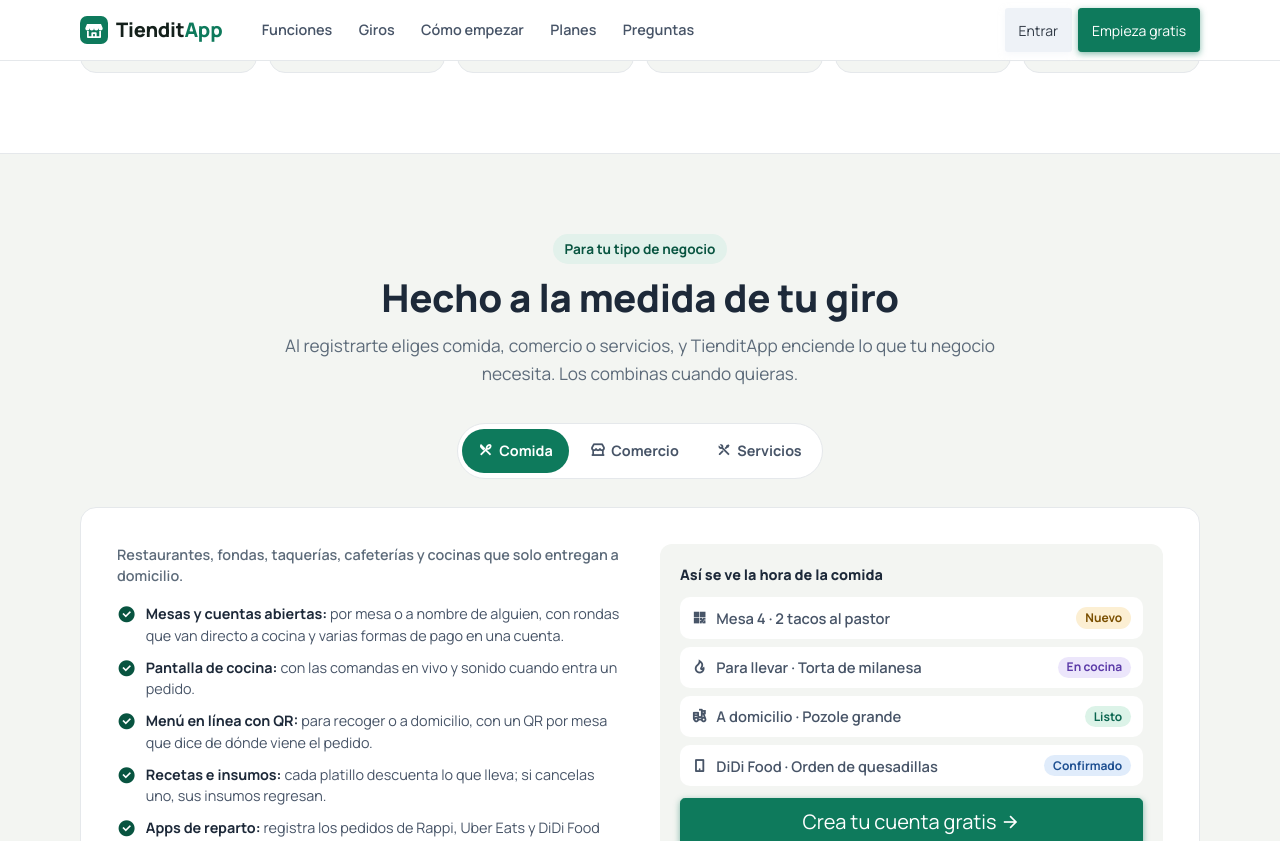
BusinessLandingPage › shows what each type of business gets, from a click or the arrows
(page scrolled)
Expected: the panel shows "Pantalla de cocina", [146,658,273,677]
Click the tab "Servicios". click: x=759, y=451
box: [700,429,818,473]
(page scrolled)
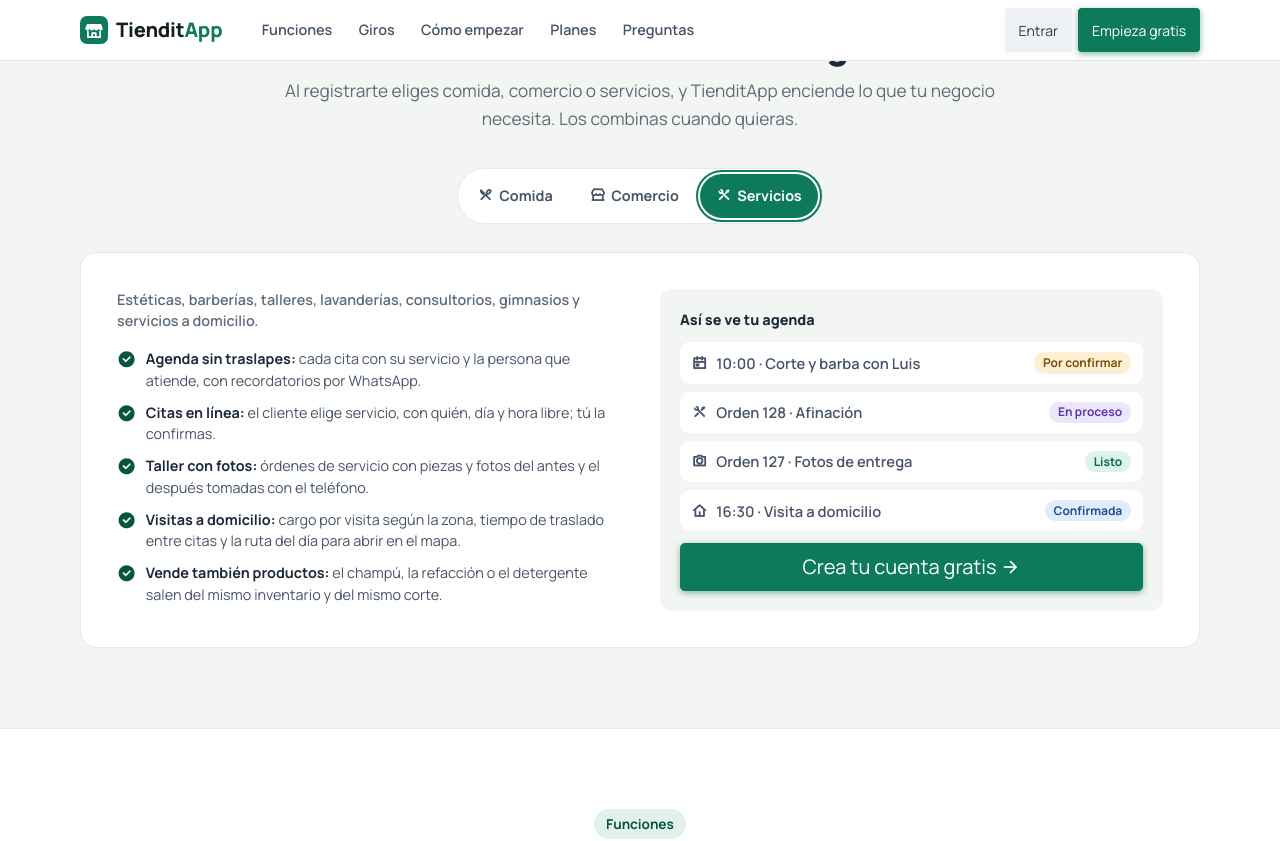
Result: the panel "servicios" shows "Citas en línea" at [146,403,240,422]
Press Arrowright
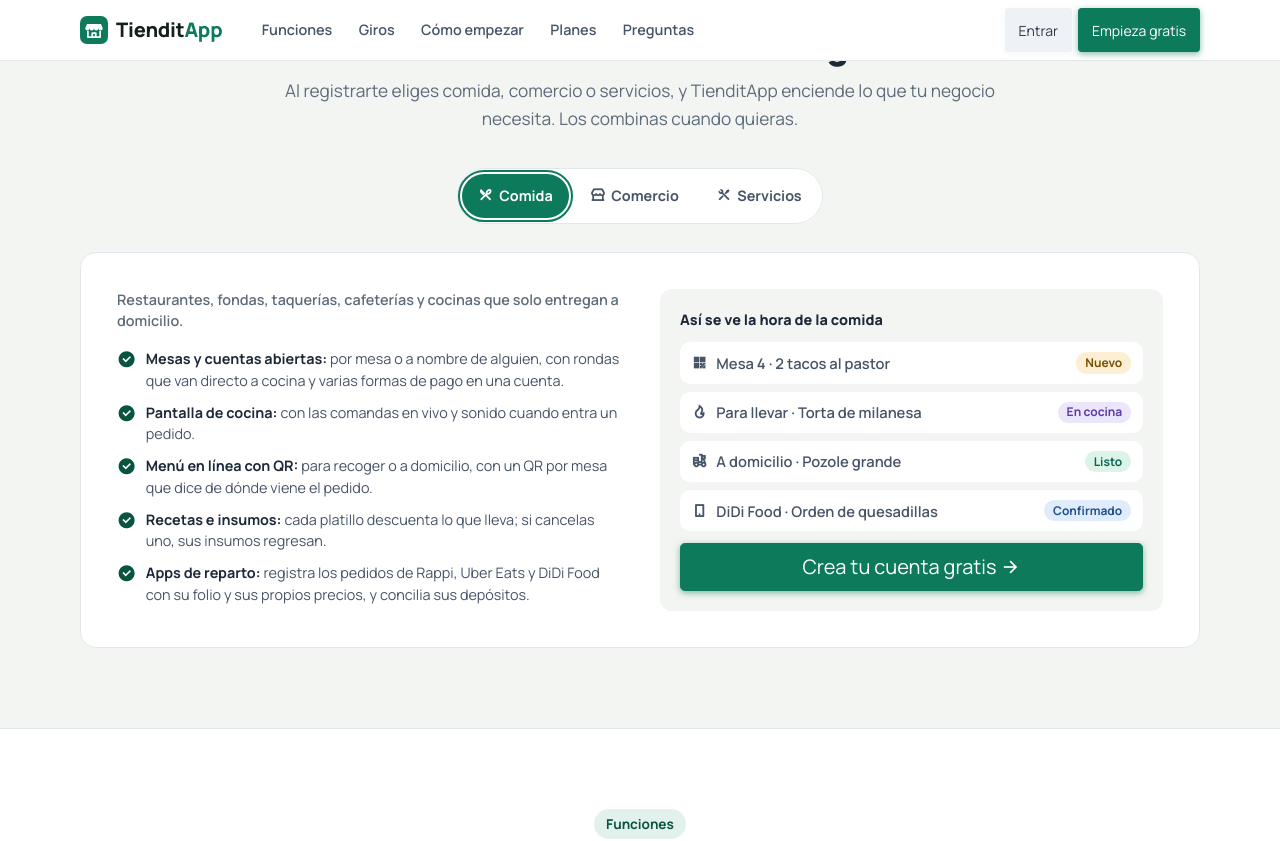
Result: the tab "Comida" is selected at [462,174,569,218]
Press End
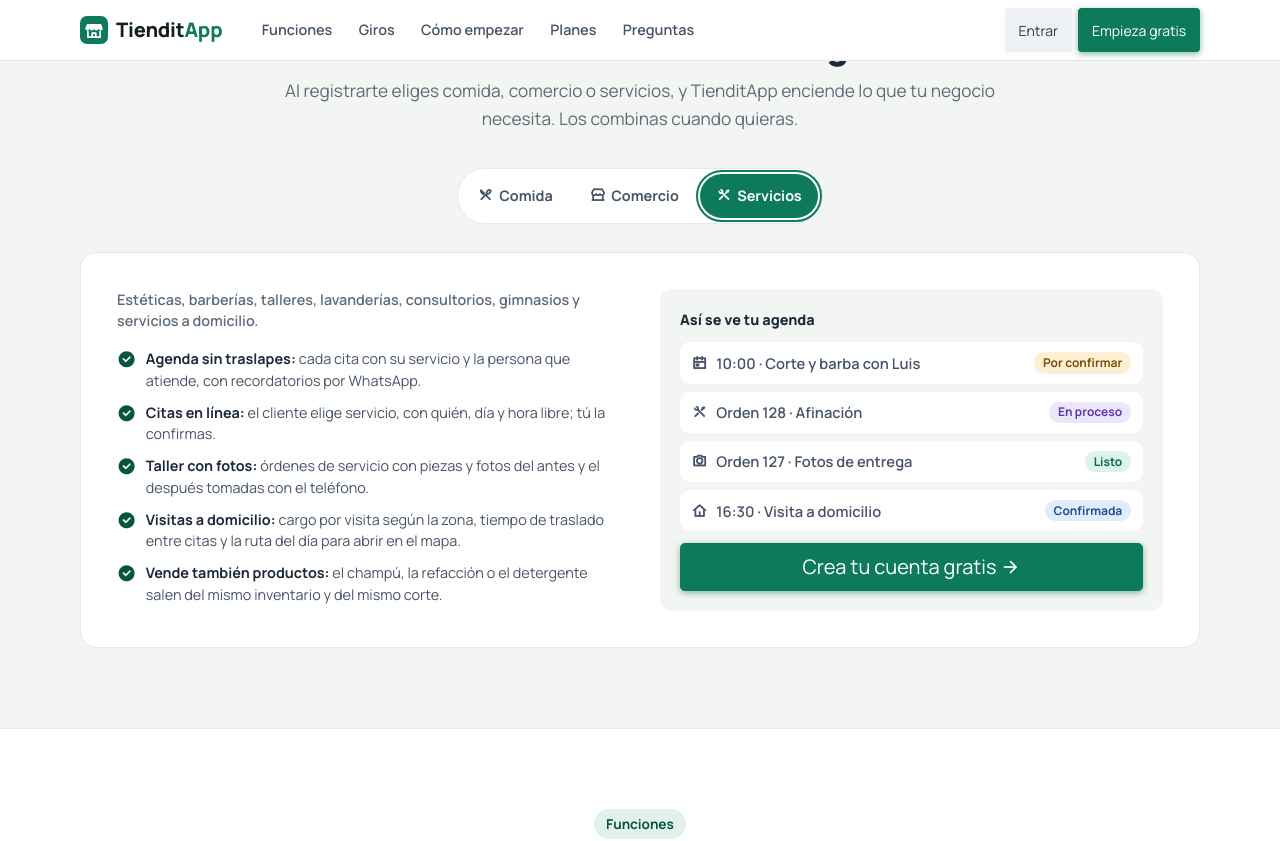
Press Arrowleft
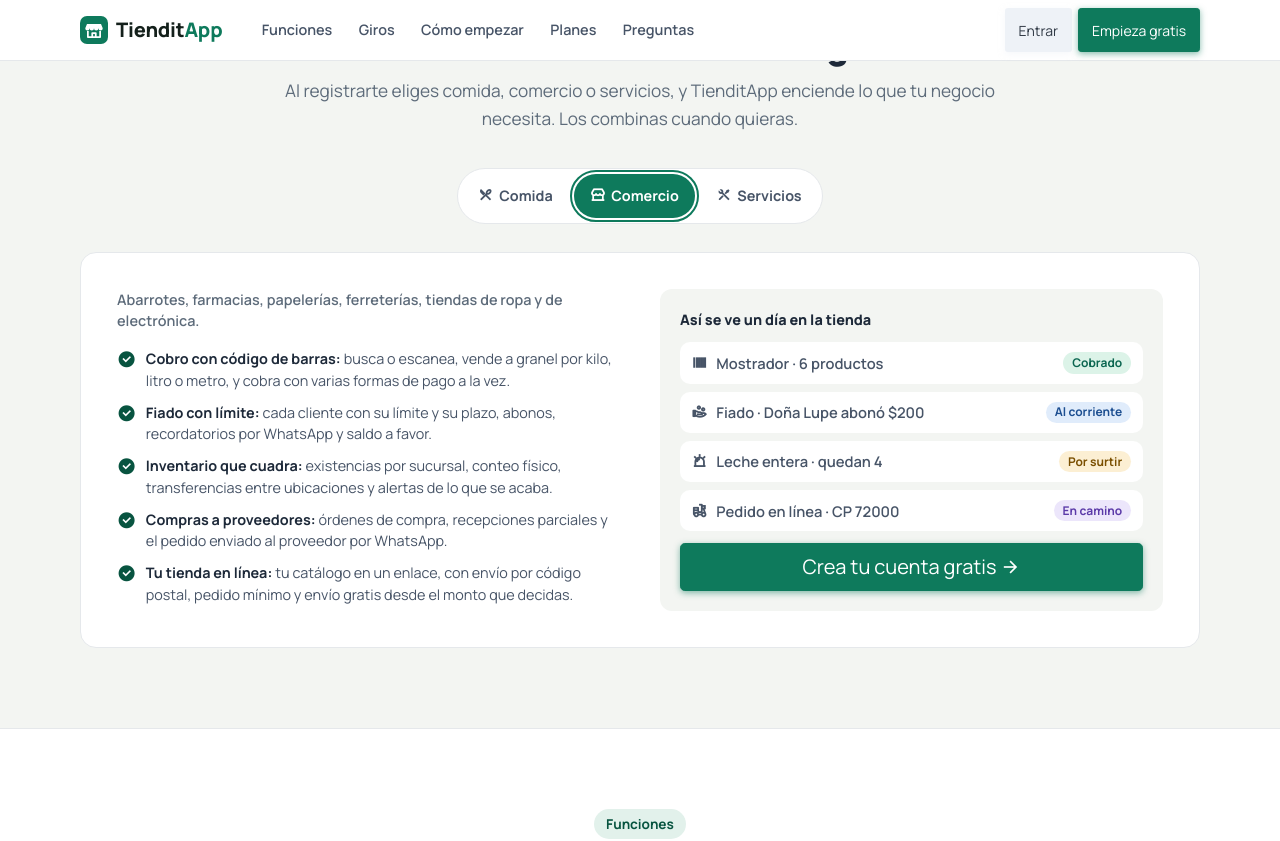
Result: the panel named "Comercio" shows "Fiado con límite" at [146,403,255,422]
